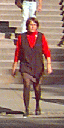person: (14, 16, 51, 115)
